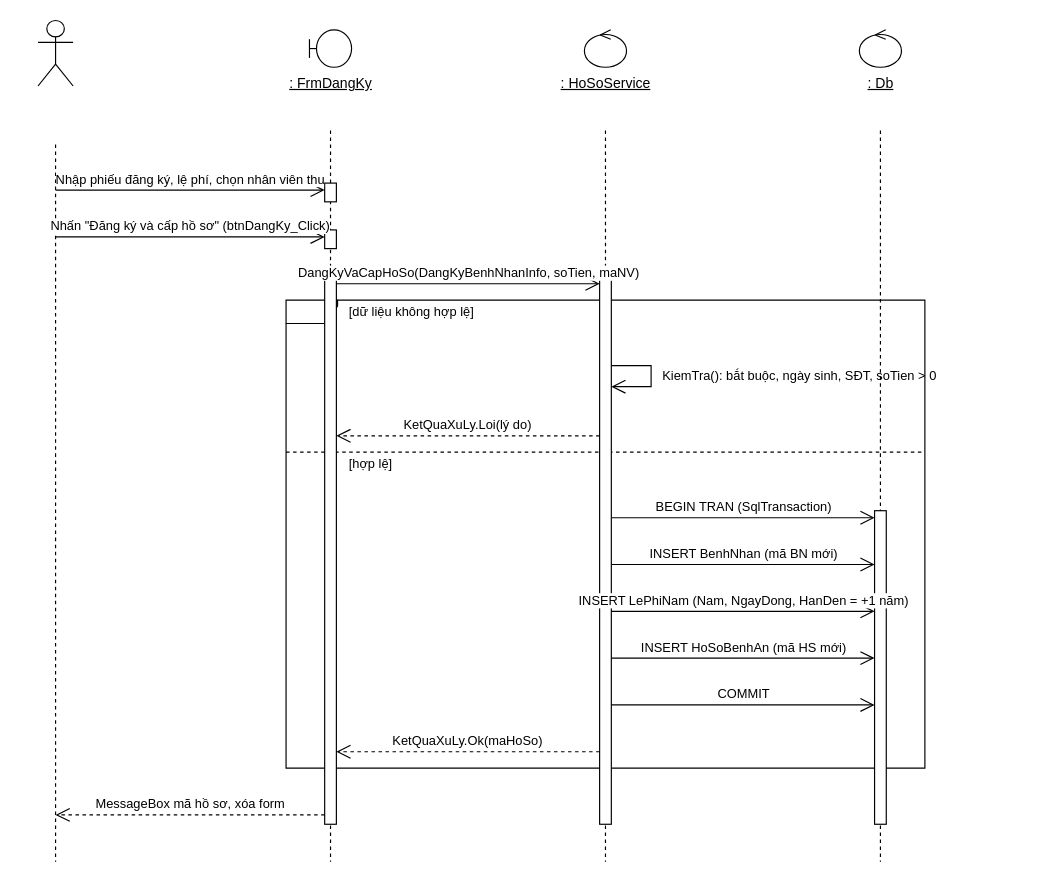
Some shapes in this 1060 by 883 pixel diagram are drawn without their labels. Here are the shapes that lost their labels. From the top down, the box of each, then its label:
(37, 19, 73, 86): : NV CSKH
(285, 299, 925, 768): alt
